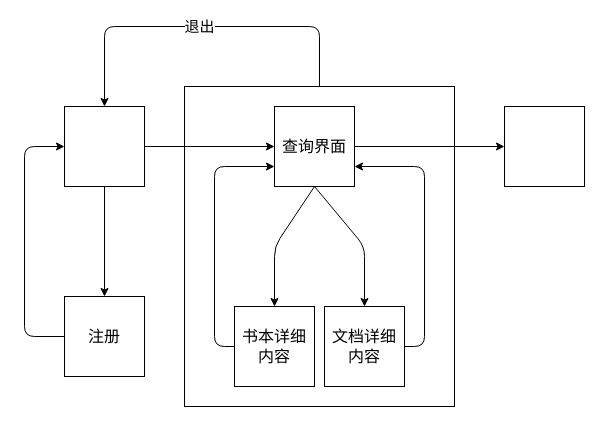
Image size: 602x424. Some labels were removed from this diagram. Each missing label, with the centre of its shape:
"用户详细内容" goes at pixel 544 146.
"登陆页面" goes at pixel 104 146.
